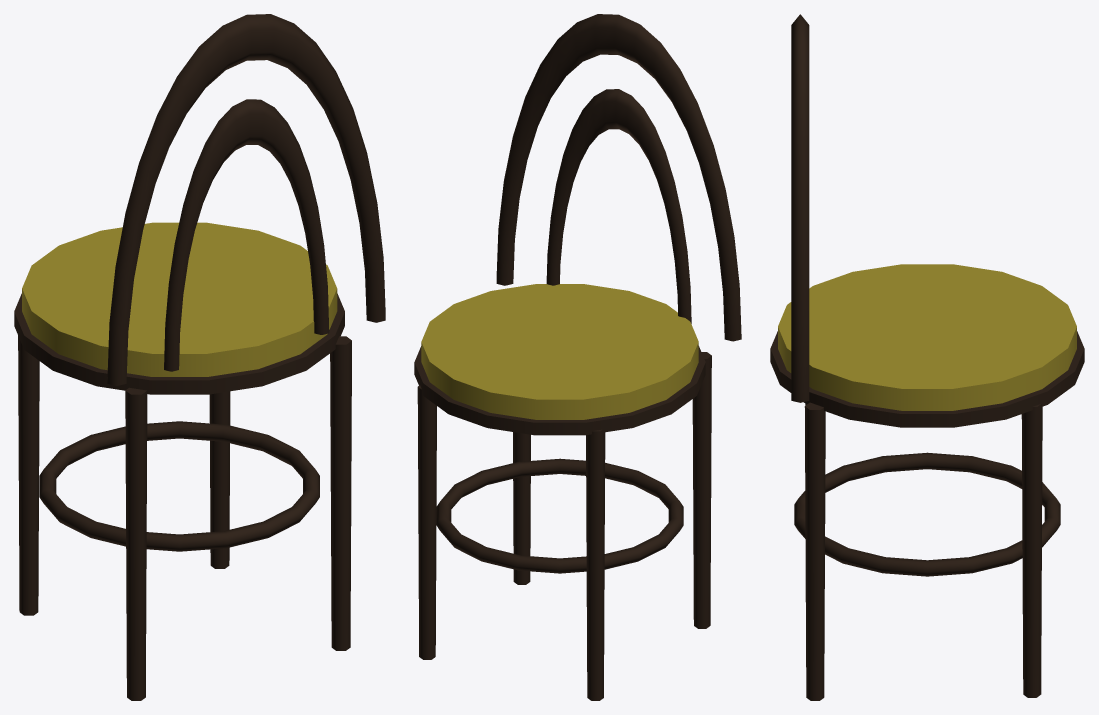
File: chair-bentwood.glb
3 renders of one model, left to right at view 1: azimuth 30°, elevation 25°; view 2: azimuth 150°, elevation 25°; view 3: azimuth 270°, elevation 25°, orthographic. The views are drawn at different scales.
Parts seen in each view (by area): view 1: chair-bentwood; view 2: chair-bentwood; view 3: chair-bentwood.
Part boxes in pixels (x1=…): chair-bentwood: x1=14, y1=14, x2=385, y2=700; chair-bentwood: x1=414, y1=14, x2=741, y2=700; chair-bentwood: x1=770, y1=14, x2=1084, y2=700.
Bounding box in the file's own units: 0.4136 × 0.9292 × 0.42.
